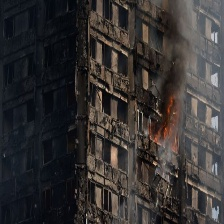fire: (150, 97, 180, 148)
smoke: (143, 1, 198, 105)
